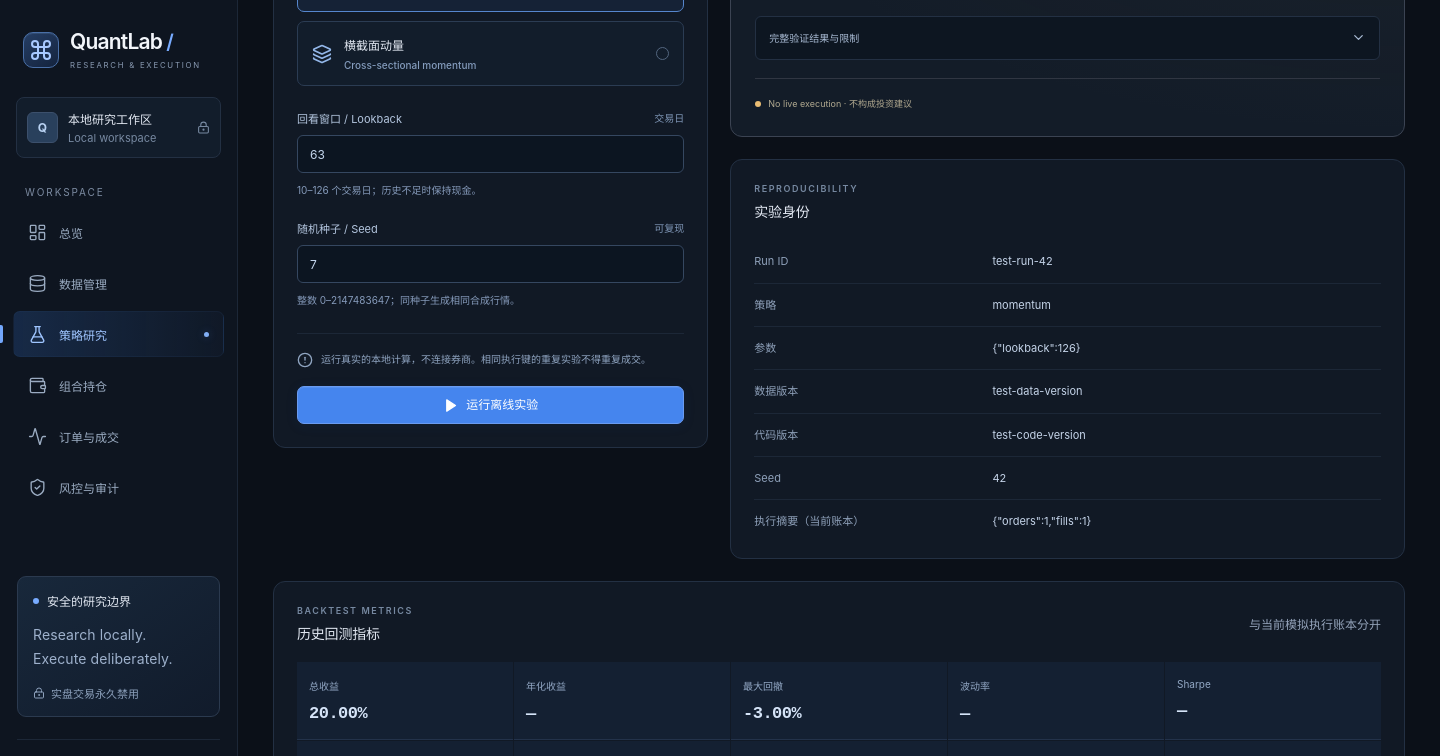
Scenario: bounded, explicit offline experiment › keeps prior evidence but blocks retry after uncertain mutation failure
(page scrolled)
Click the button "运行离线实验": (491, 405) [297,386,684,424]
(page scrolled)
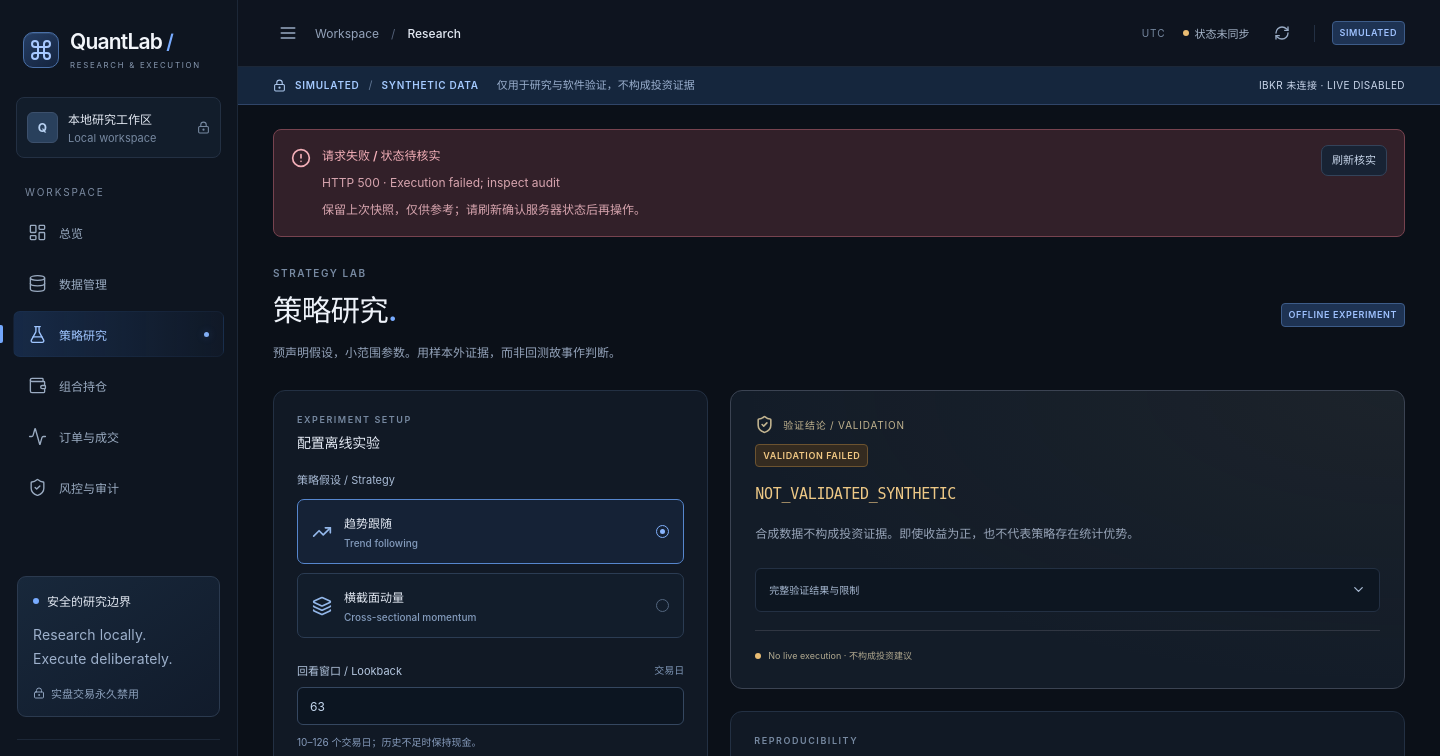
Expected: the heading "NOT_VALIDATED_SYNTHETIC" is shown, [755,482,956,508]
Result: the text "HTTP 500 · Execution failed; inspect audit" is shown at [322,175,560,190]
Click the button "刷新核实": (1354, 160) [1321,145,1387,176]
(page scrolled)
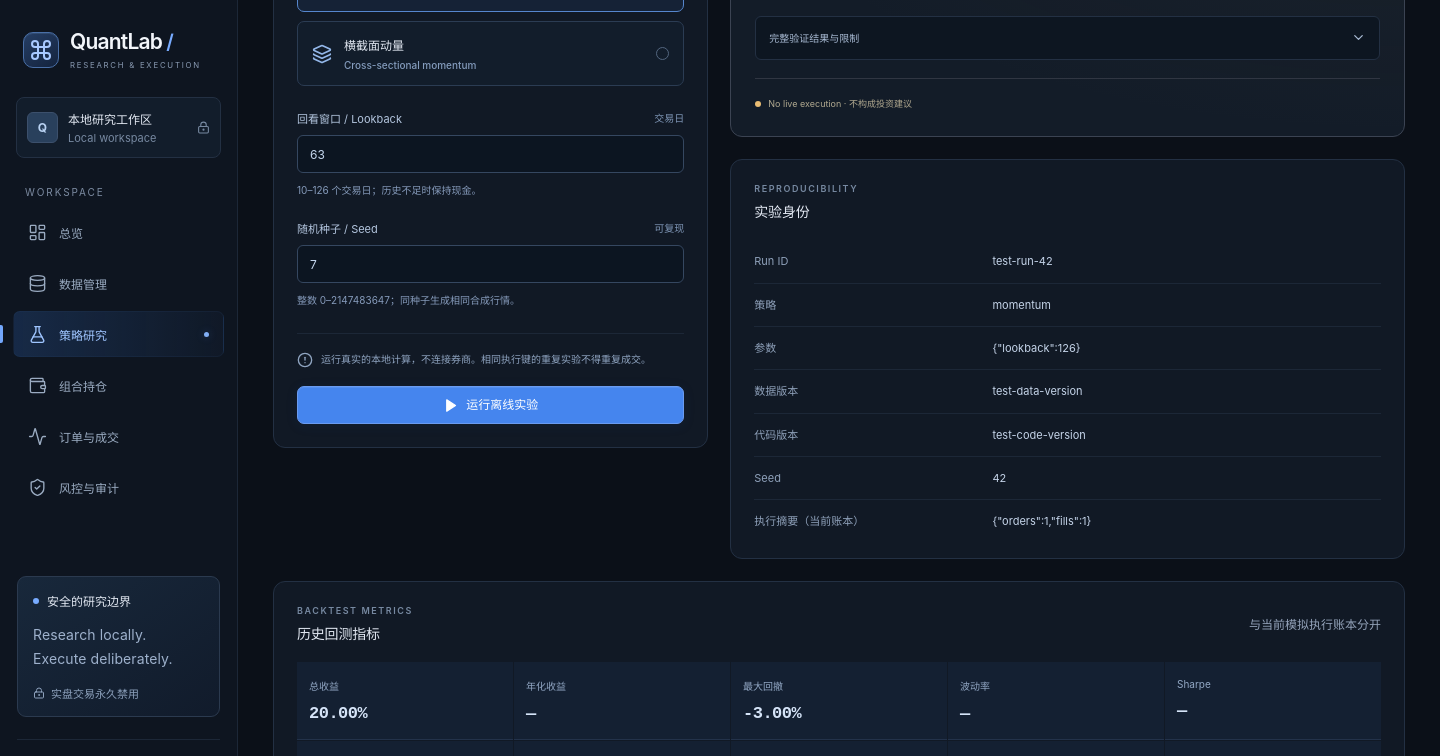
Result: the button "运行离线实验" is enabled at [297,386,684,424]
